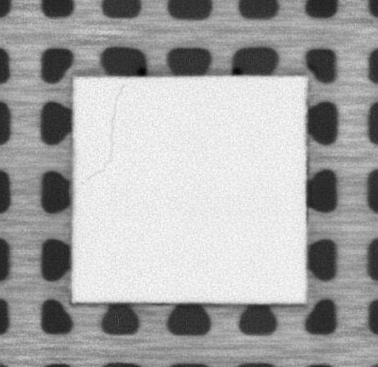DIE_CRACK: (83, 82, 129, 183)
